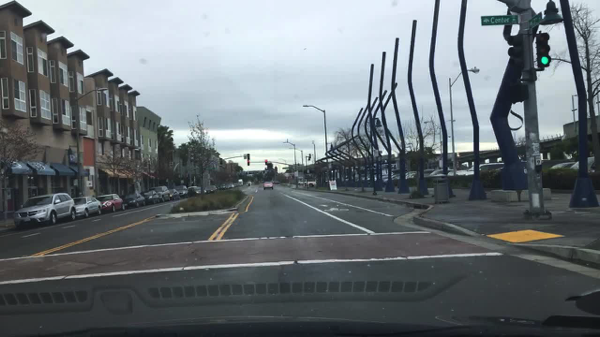car: (13, 192, 76, 227), (72, 196, 102, 218), (466, 162, 505, 176), (97, 195, 125, 212), (570, 157, 594, 173), (122, 193, 147, 208), (149, 185, 171, 202), (447, 167, 472, 179), (143, 191, 161, 205), (549, 162, 573, 171), (430, 169, 452, 178), (173, 185, 188, 198), (187, 186, 204, 196), (204, 185, 218, 193), (407, 172, 422, 179), (169, 189, 179, 199), (263, 182, 272, 190), (271, 177, 280, 185), (521, 162, 526, 176), (305, 180, 316, 186), (393, 173, 403, 179), (218, 185, 227, 191), (227, 184, 235, 190), (297, 179, 305, 185), (384, 174, 388, 183), (246, 180, 251, 186)
traffic light: (537, 32, 550, 70), (264, 159, 268, 166), (246, 153, 250, 160), (248, 160, 250, 168)
traffic sign: (480, 15, 515, 25), (528, 9, 543, 32), (373, 149, 379, 158), (281, 167, 292, 170), (205, 166, 215, 169)
truck: (237, 179, 244, 186)
